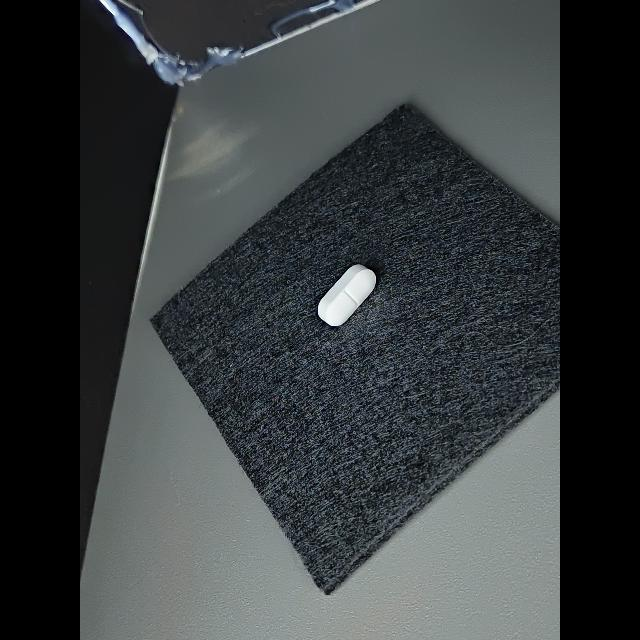Intact Pill: (318, 264, 376, 326)
